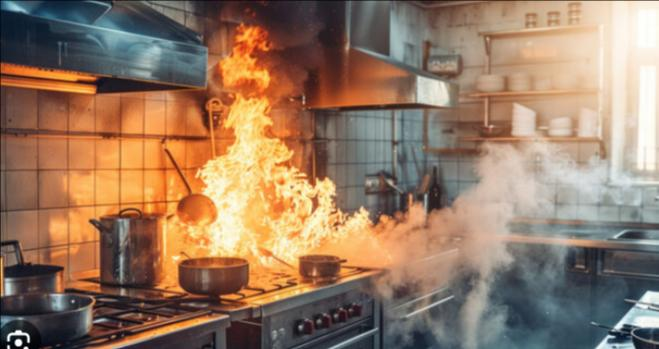fire: (156, 12, 372, 291)
smoke: (400, 124, 579, 315)
